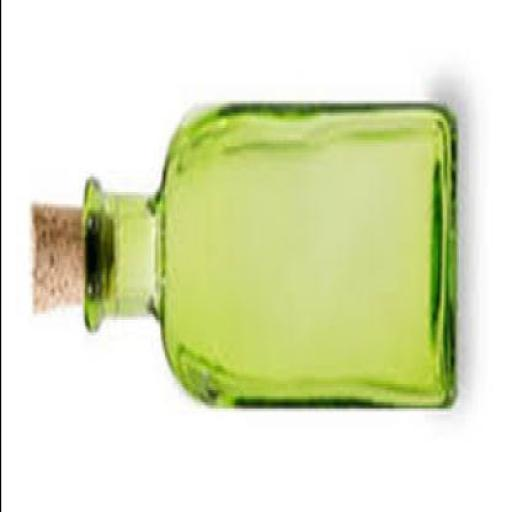glass: (78, 100, 457, 406)
